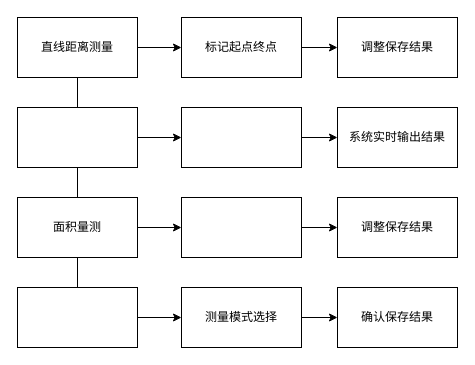
Some shapes in this 475 by 365 pixel diagram are drawn without their labels. Each missing label, with the centre of its shape:
三维场景标记: the point at 241,137
多边形顶点标记: the point at 241,227
贴地距离测量: the point at 77,137
高度量测: the point at 77,317
